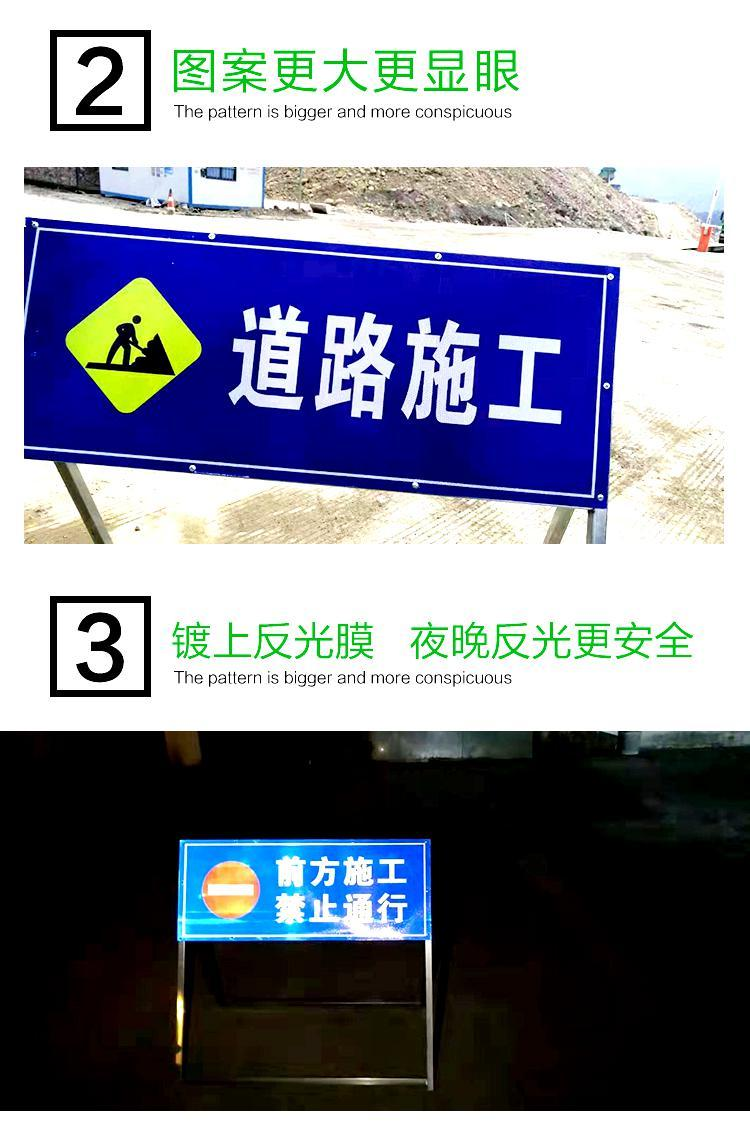sign: (21, 211, 621, 514), (180, 835, 430, 948)
